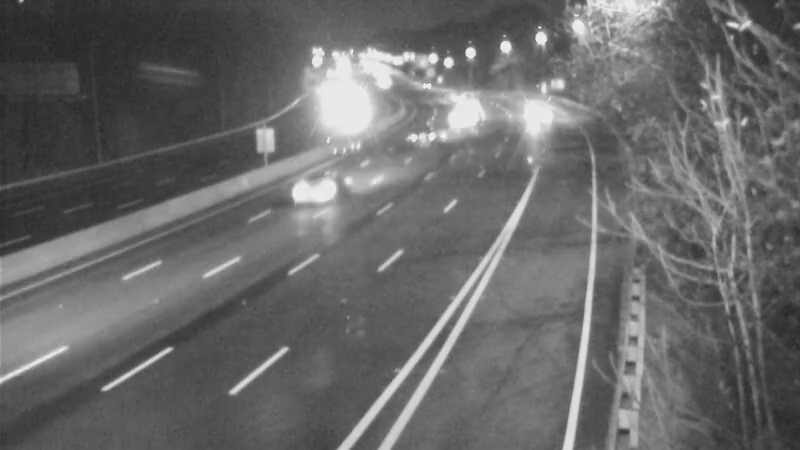vehicle: (286, 145, 366, 225), (505, 84, 555, 134), (441, 84, 491, 134), (428, 96, 478, 146), (393, 110, 443, 160)
